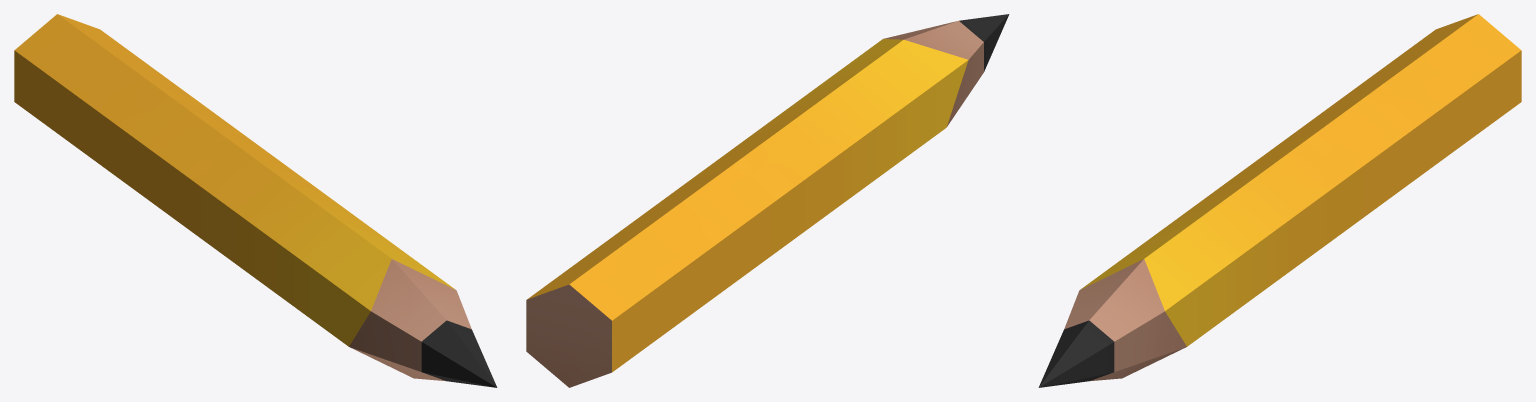
Rendered from crayon.fbx.
3 views of the same model, side by side, from view 1: azimuth 30°, elevation 25°; view 2: azimuth 150°, elevation 25°; view 3: azimuth 330°, elevation 25° (orthographic).
Parts seen in each view (by area): view 1: crayon; view 2: crayon; view 3: crayon.
Part boxes in pixels (x1=…): crayon: x1=14, y1=14, x2=497, y2=387; crayon: x1=526, y1=14, x2=1009, y2=387; crayon: x1=1038, y1=14, x2=1521, y2=387.
Size of the model in its own units: 3.72 by 33.08 by 4.29.
